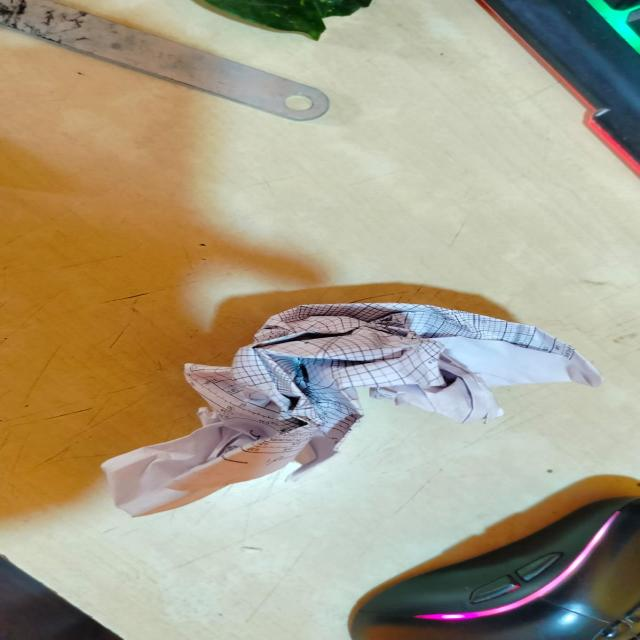Paper: (102, 288, 602, 519)
